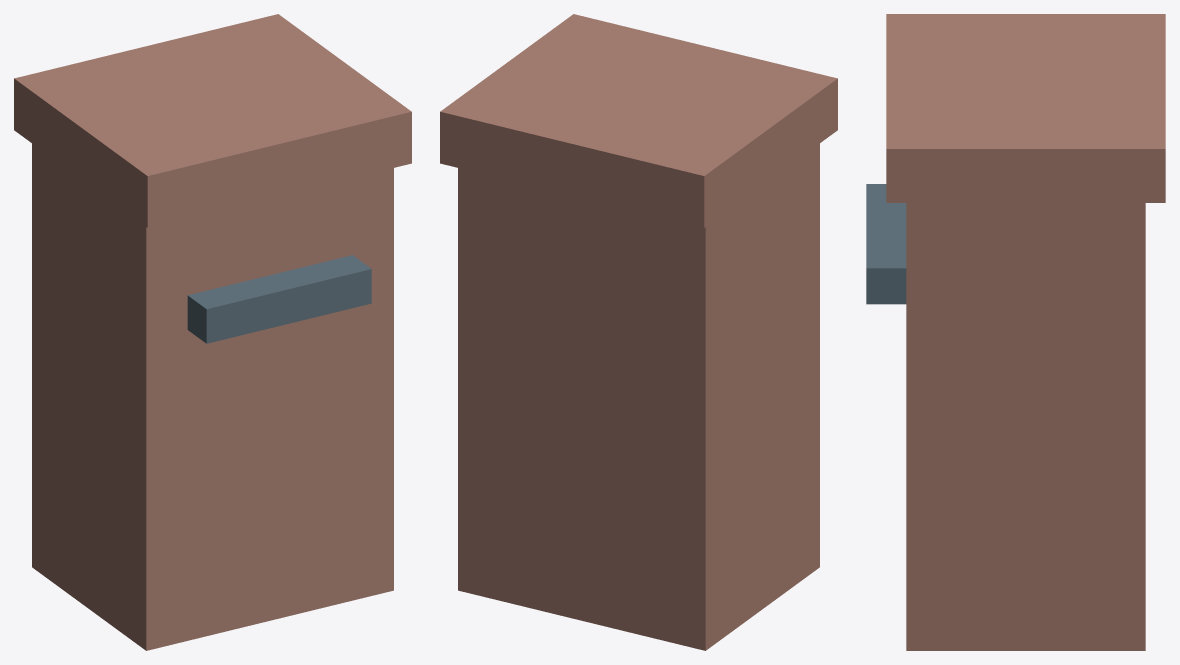
The model's file is voxel-city-districts-post-box-cdc441b9__24841.glb.
The picture shows the model from 3 angles, left to right: view 1: azimuth 30°, elevation 25°; view 2: azimuth 150°, elevation 25°; view 3: azimuth 270°, elevation 25°; orthographic projection. The views are drawn at different scales.
Parts seen in each view (by area): view 1: post-box-roof, post-box-dark; view 2: post-box-roof; view 3: post-box-roof, post-box-dark.
Part boxes in pixels (<box>): post-box-roof: <box>14,14,411,650</box>; post-box-dark: <box>187,255,371,343</box>; post-box-roof: <box>440,14,837,650</box>; post-box-roof: <box>886,14,1165,650</box>; post-box-dark: <box>866,184,906,304</box>.
Size of the model in its own units: 0.8001 by 1.4 by 0.75.
